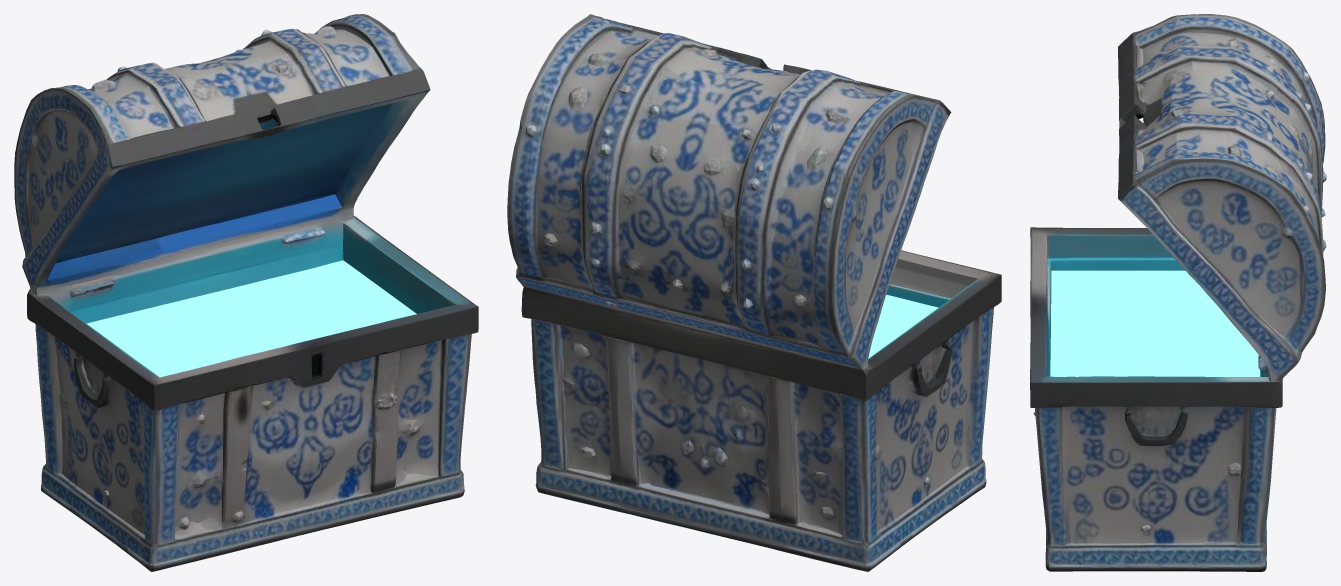
File: coffre.glb
3 views of the same model, side by side, from view 1: azimuth 30°, elevation 25°; view 2: azimuth 150°, elevation 25°; view 3: azimuth 270°, elevation 25° (orthographic). The views are drawn at different scales.
Parts seen in each view (by area): view 1: mesh, Plane; view 2: mesh, Plane; view 3: mesh, Plane.
Part boxes in pixels (bbox=[...]): mesh: bbox=[14, 14, 478, 571]; Plane: bbox=[86, 260, 416, 377]; mesh: bbox=[507, 14, 1001, 571]; Plane: bbox=[868, 294, 938, 358]; mesh: bbox=[1030, 14, 1326, 571]; Plane: bbox=[1050, 270, 1260, 376].
Size of the model in its own units: 0.8159 by 1 by 0.6501.
2 materials, 1 textured.
